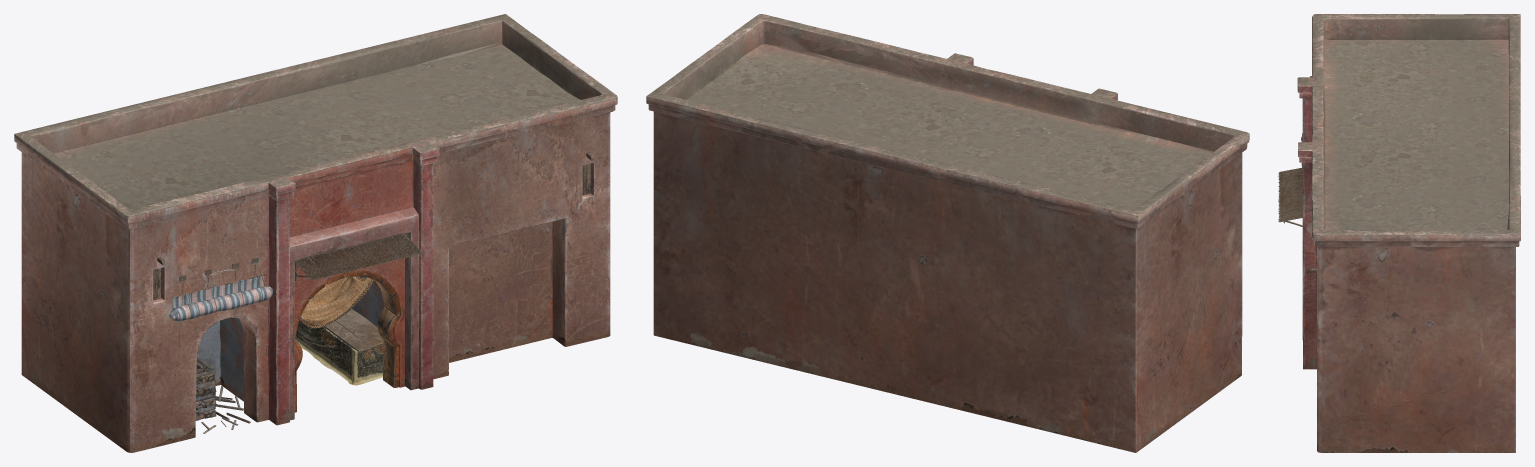
Rendered from xi_oam_building_gate.gltf.
The picture shows the model from 3 angles, left to right: view 1: azimuth 30°, elevation 25°; view 2: azimuth 150°, elevation 25°; view 3: azimuth 270°, elevation 25°; orthographic projection. The views are drawn at different scales.
Parts seen in each view (by area): view 1: xi_oam_building_gate; view 2: xi_oam_building_gate; view 3: xi_oam_building_gate.
Boxes of the visible parts, left/top/right/bottom form: xi_oam_building_gate: left=14, top=14, right=617, bottom=452; xi_oam_building_gate: left=646, top=14, right=1249, bottom=452; xi_oam_building_gate: left=1278, top=14, right=1520, bottom=452.
Size of the model in its own units: 13.65 by 6.38 by 6.35.
5 materials, 5 textured.
